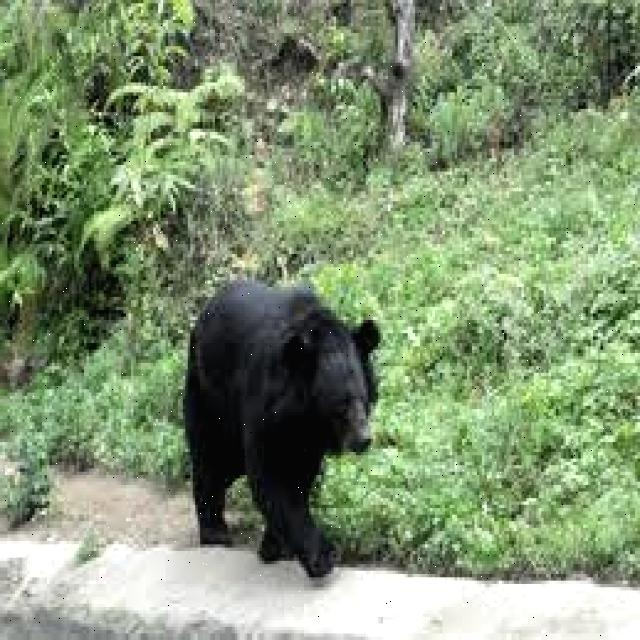bear: (144, 261, 392, 606)
